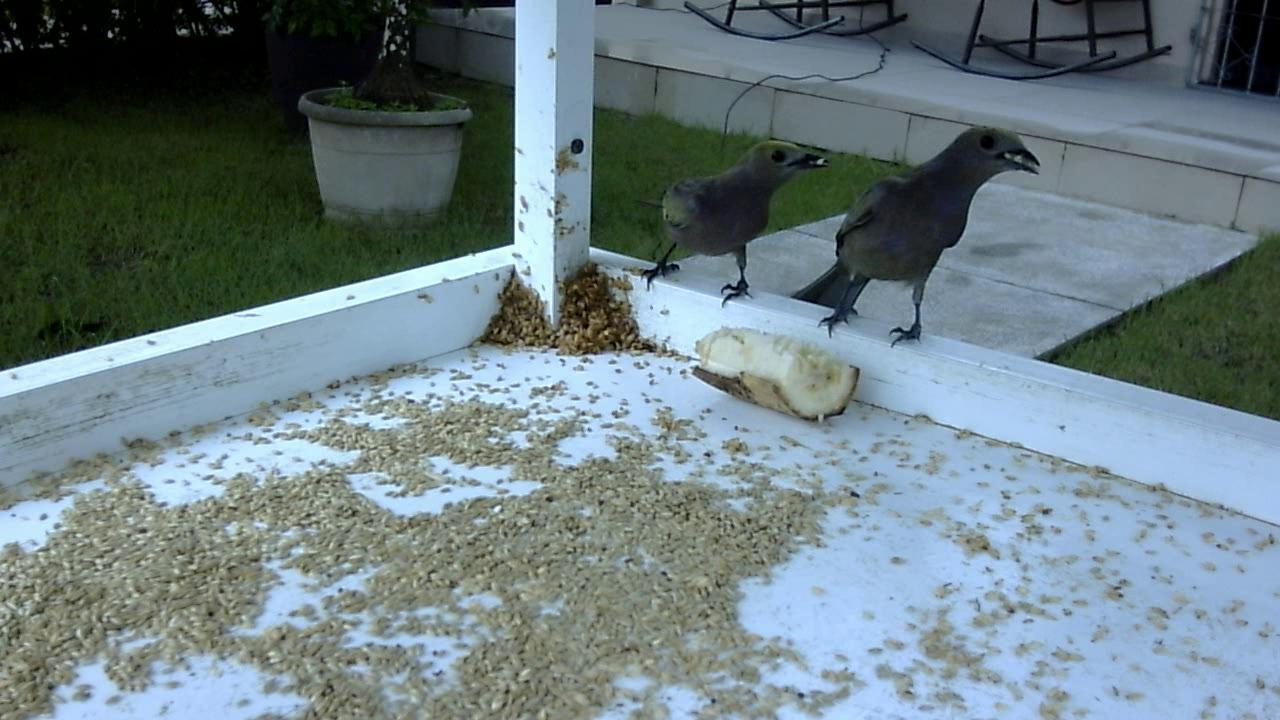sanhaco_do_coqueiro: (780, 122, 1046, 362), (619, 129, 846, 322)
